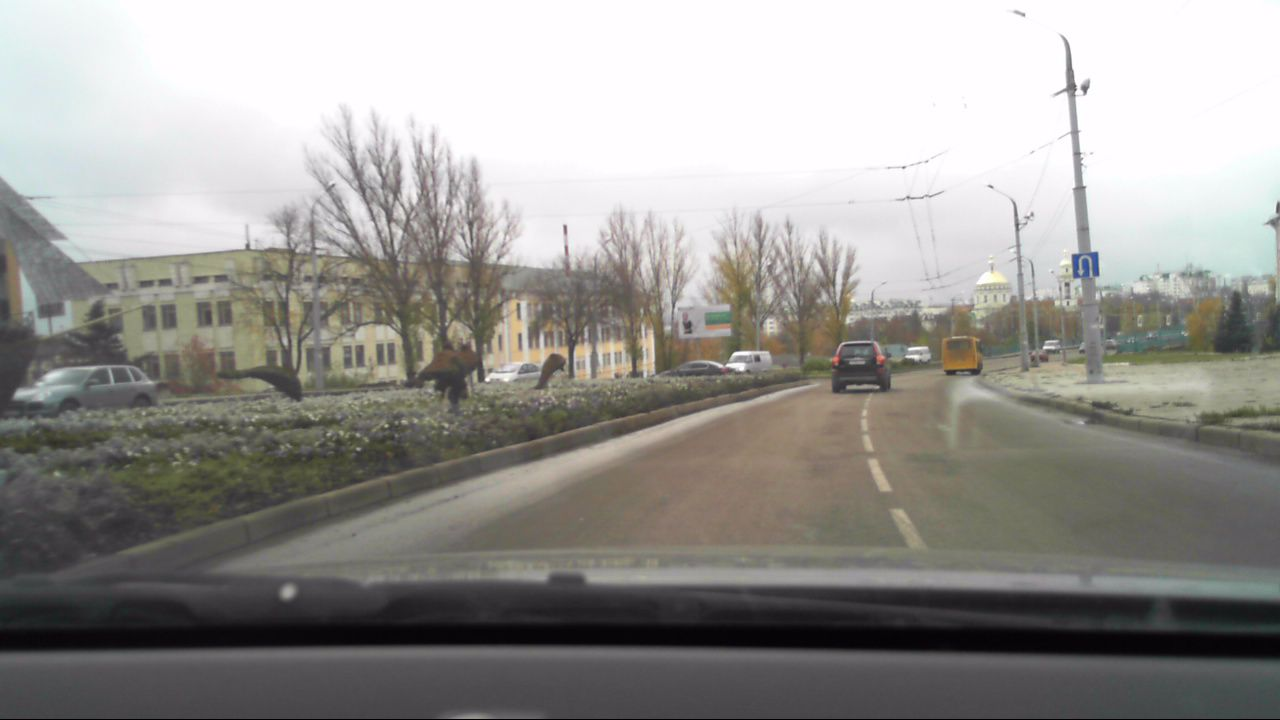U-turn: (1072, 253, 1098, 278)
